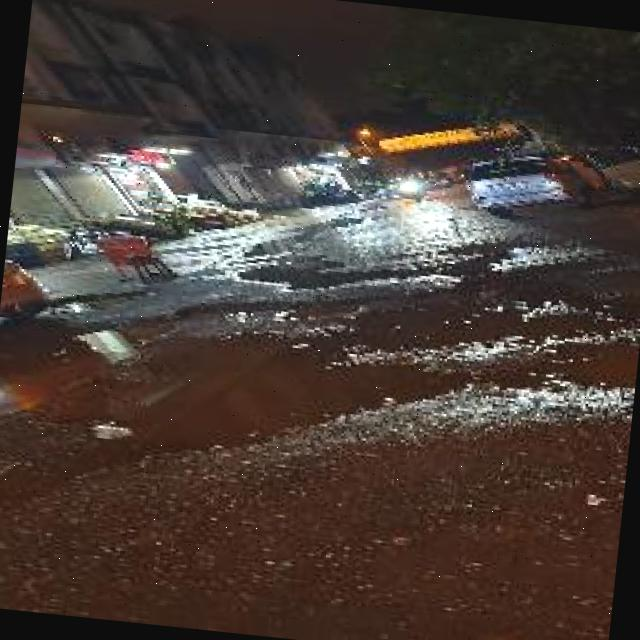stagnation: (17, 196, 624, 521)
